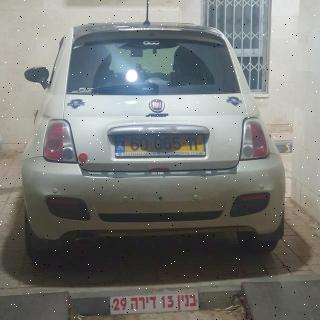LicensePlate: (126, 135, 205, 152)
